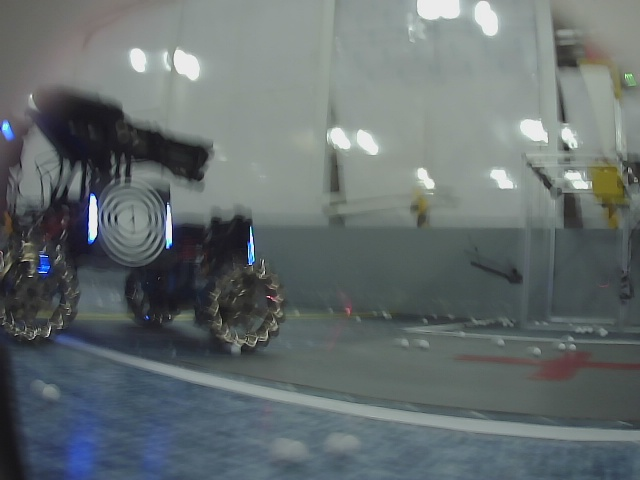lamp: (162, 200, 173, 250), (88, 193, 97, 245)
pair: (89, 194, 173, 250)
